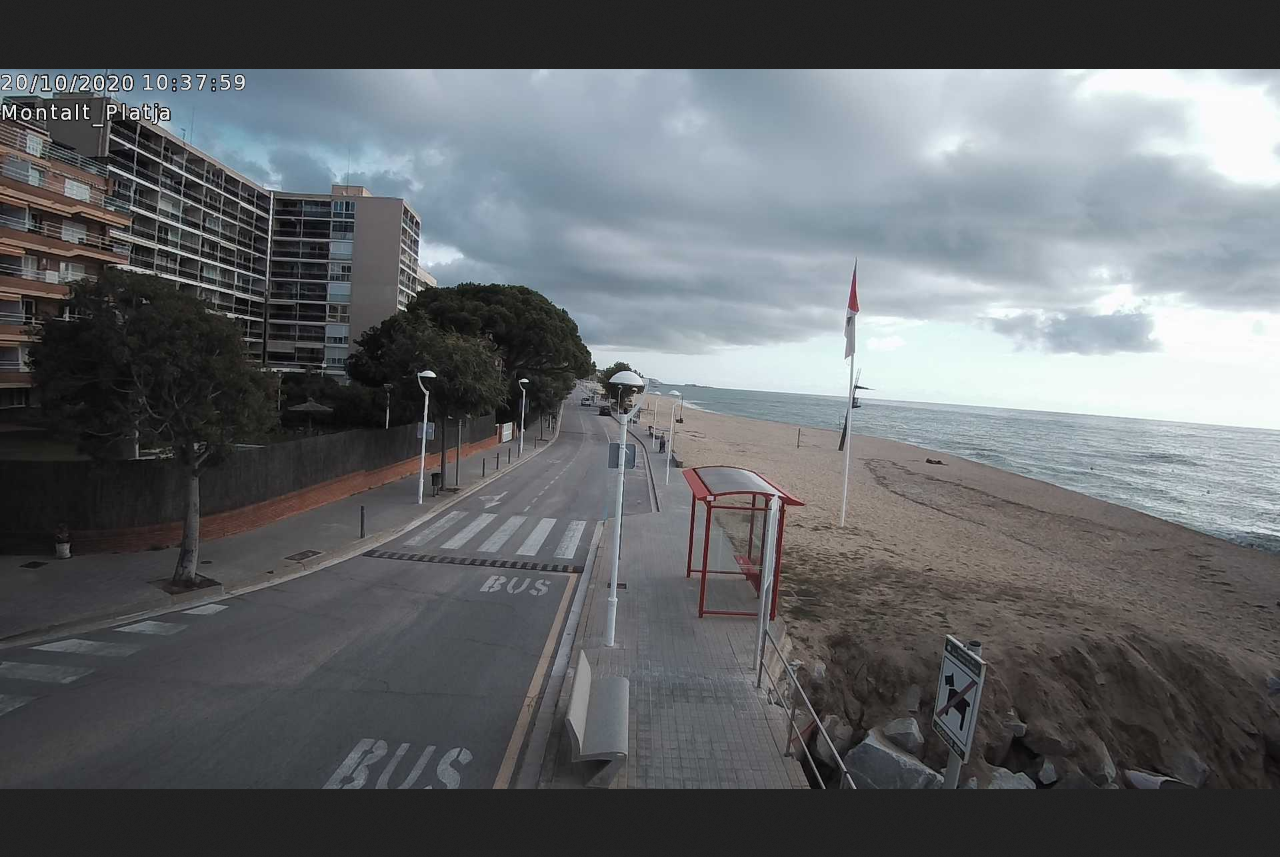no: (844, 269, 861, 353)
